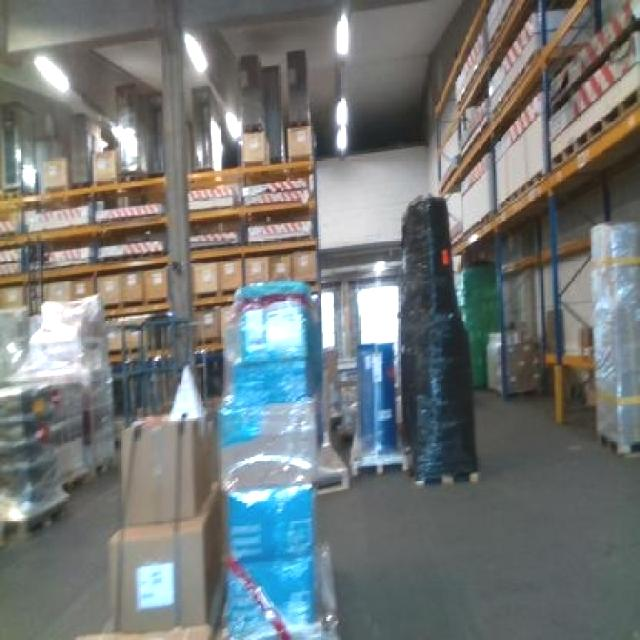pallets: (397, 195, 475, 480), (589, 220, 637, 451)
